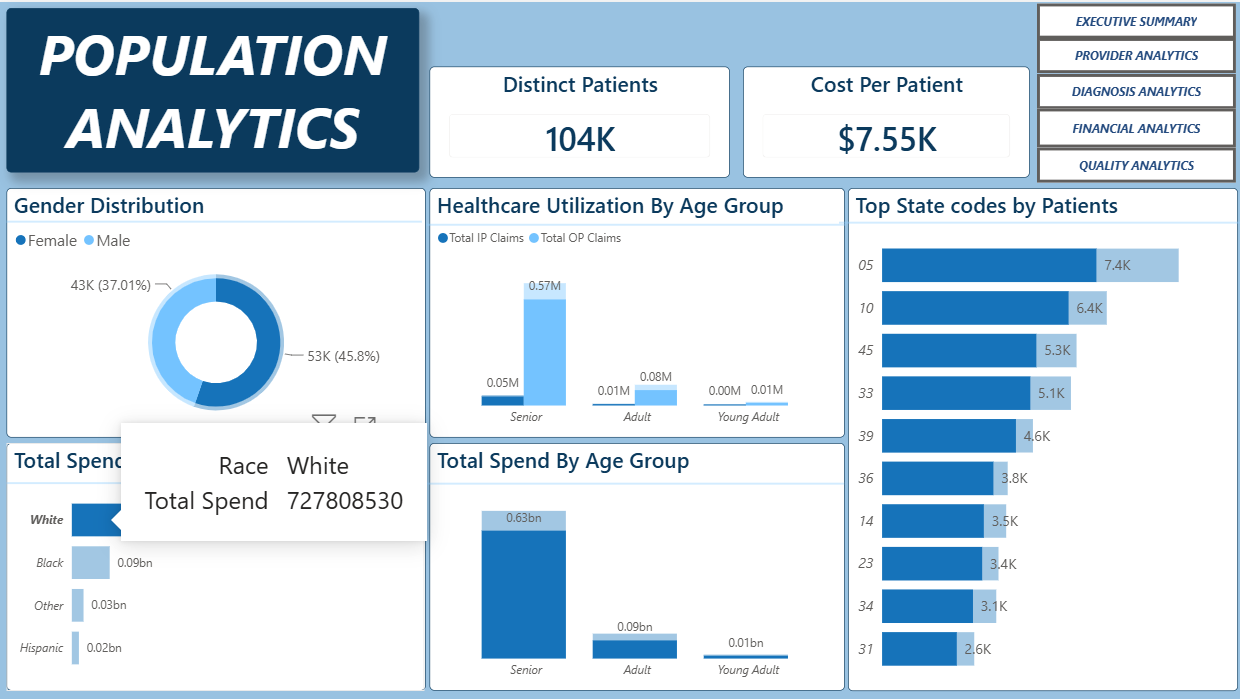

What the dashboard file says about the page in this screenshot:
{"tool":"powerbi","page":{"name":"Population Analytics","canvas":[1280,720],"ordinal":2},"visuals":[{"type":"clusteredBarChart","title":"Top State codes by Patients","fields":{"Category":["Dim_Beneficiary.SP_STATE_CODE"],"Y":["Measures_Healthcare.Total Patients"]},"box":[874,190,400,516],"z":0},{"type":"donutChart","title":"Gender Distribution","fields":{"Category":["Dim_Beneficiary.BENE_SEX_IDENT_CD"],"Y":["Measures_Healthcare.Total Patients"]},"box":[10,190,430,256],"z":1000},{"type":"clusteredColumnChart","title":"Healthcare Utilization By Age Group","fields":{"Category":["Dim_Beneficiary.Age_Group"],"Y":["Measures_Healthcare.Total Inpatient Claims","Measures_Healthcare.Total Outpatient Claims"]},"box":[444,190,426,256],"z":2000},{"type":"clusteredBarChart","title":"Total Spend By Race","fields":{"Category":["Dim_Beneficiary.Custom"],"Y":["Measures_Healthcare.Total Spend"]},"box":[10,452,430,254],"z":3000},{"type":"textbox","box":[10,6.7,423.3,168.3],"z":4000},{"type":"cardVisual","title":"Cost Per Patient","fields":{"Data":["Measures_Healthcare.Cost Per Beneficiary"]},"box":[766,66,294,114],"z":5000},{"type":"clusteredColumnChart","title":"Total Spend By Age Group","fields":{"Category":["Dim_Beneficiary.Age_Group"],"Y":["Measures_Healthcare.Total Spend"]},"box":[444,452,426,254],"z":6000},{"type":"cardVisual","title":"Distinct Patients","fields":{"Data":["Measures_Healthcare.Distinct Members"]},"box":[444,66,308,114],"z":7000},{"type":"shape","box":[10,212,426,26],"z":8000},{"type":"shape","box":[864,212,416,28],"z":9000},{"type":"shape","box":[442,218,430,20],"z":10000},{"type":"shape","box":[10,478,424,30],"z":11000},{"type":"shape","box":[440,480,430,28],"z":12000},{"type":"actionButton","box":[1067.3,1.3,204,36],"z":16000},{"type":"actionButton","box":[1067.3,37.3,204,36],"z":17000},{"type":"actionButton","box":[1067.3,73.3,204,36],"z":18000},{"type":"actionButton","box":[1067.3,109.3,204,40],"z":19000},{"type":"actionButton","box":[1067.3,149.3,204,36],"z":20000}]}

Visuals, with their boxes in screenshot pixels (x1, y1, x2, y2), scaled from the page's 1280x720 canvas onto the 1240x699 screenshot:
"Top State codes by Patients" clusteredBarChart: bbox=(847, 184, 1234, 685)
"Gender Distribution" donutChart: bbox=(10, 184, 426, 433)
"Healthcare Utilization By Age Group" clusteredColumnChart: bbox=(430, 184, 843, 433)
"Total Spend By Race" clusteredBarChart: bbox=(10, 439, 426, 685)
textbox: bbox=(10, 7, 420, 170)
"Cost Per Patient" cardVisual: bbox=(742, 64, 1027, 175)
"Total Spend By Age Group" clusteredColumnChart: bbox=(430, 439, 843, 685)
"Distinct Patients" cardVisual: bbox=(430, 64, 728, 175)
shape: bbox=(10, 206, 422, 231)
shape: bbox=(837, 206, 1239, 233)
shape: bbox=(428, 212, 845, 231)
shape: bbox=(10, 464, 420, 493)
shape: bbox=(426, 466, 843, 493)
actionButton: bbox=(1034, 1, 1232, 36)
actionButton: bbox=(1034, 36, 1232, 71)
actionButton: bbox=(1034, 71, 1232, 106)
actionButton: bbox=(1034, 106, 1232, 145)
actionButton: bbox=(1034, 145, 1232, 180)
